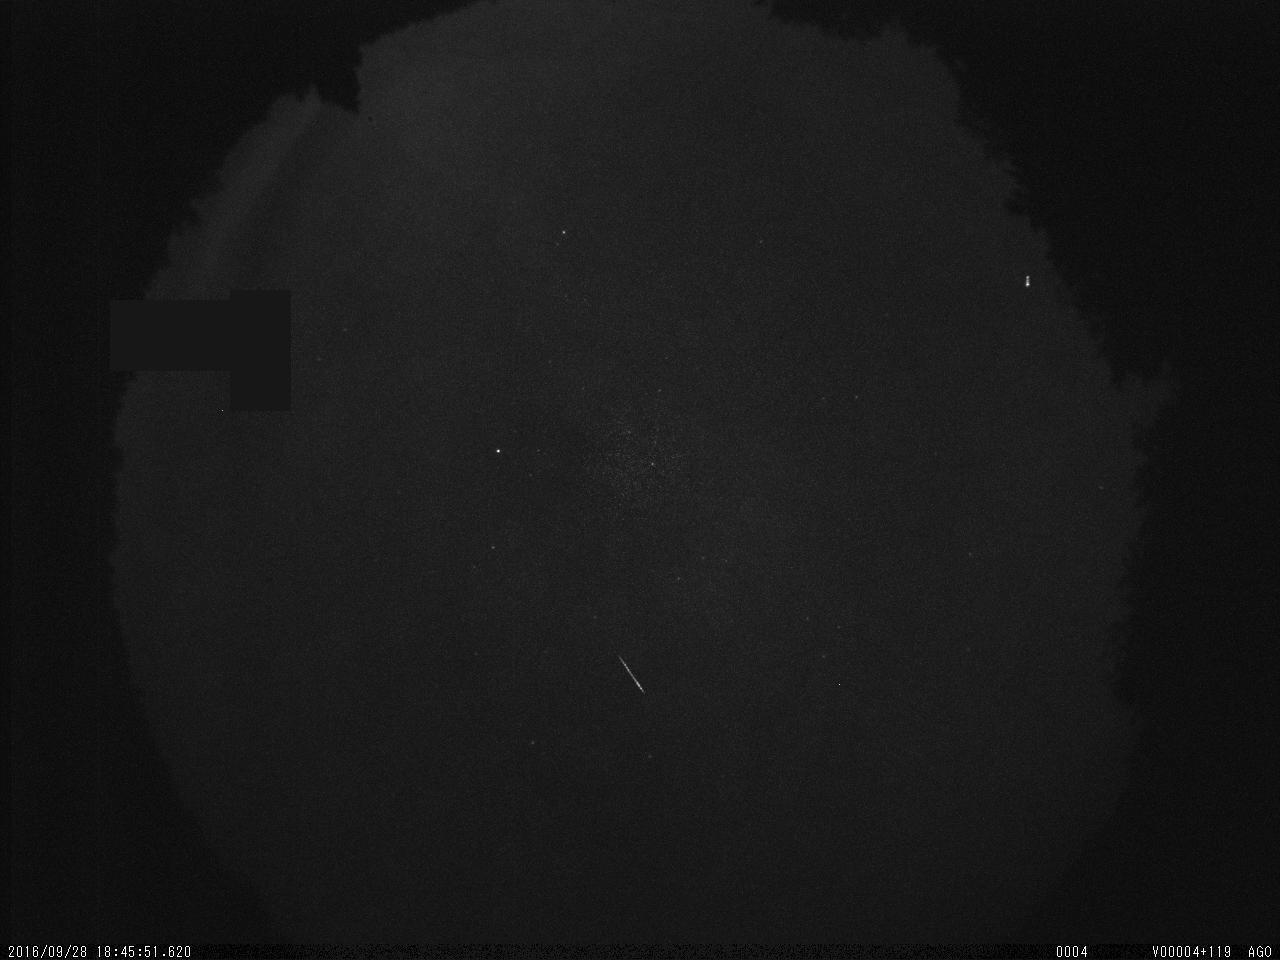Meteor: (615, 651, 648, 696), (1021, 269, 1034, 292)
